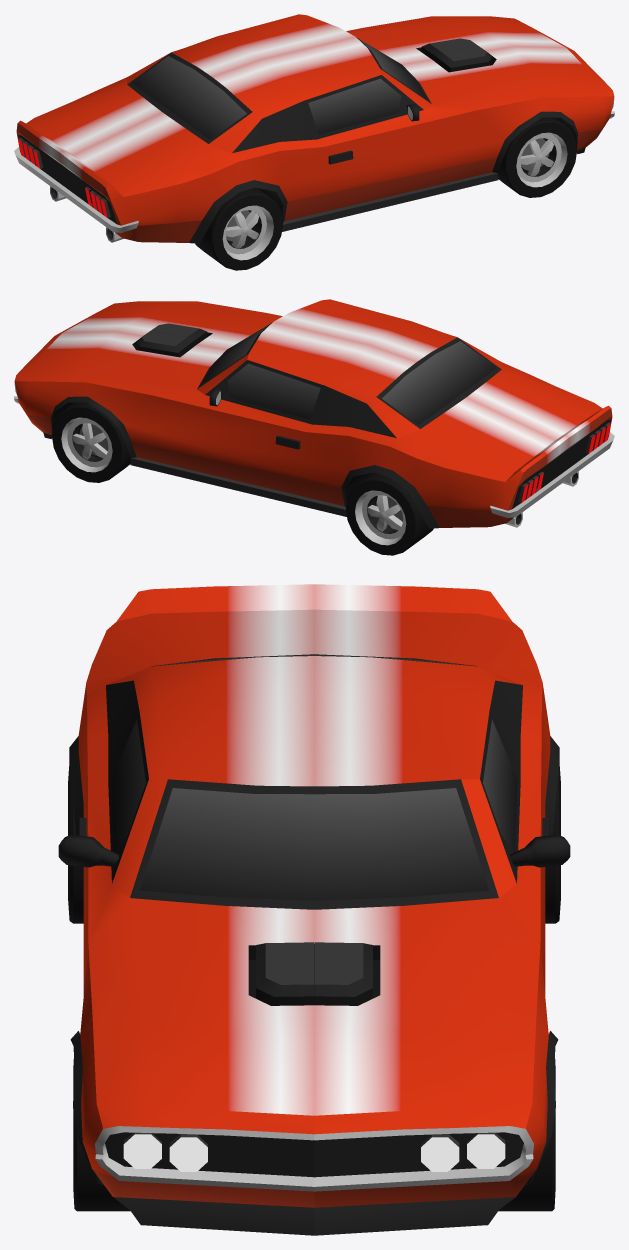
The model's file is Car_162.glb.
The picture shows the model from 3 angles, top to bottom: view 1: azimuth 30°, elevation 25°; view 2: azimuth 150°, elevation 25°; view 3: azimuth 270°, elevation 25°; orthographic projection. The views are drawn at different scales.
Visible parts, largest first — view 1: Car_162, wheel_3_Car_162_Wheel_2R, wheel_1_Car_162_Wheel_1R; view 2: Car_162, wheel_2_Car_162_Wheel_2L, wheel_0_Car_162_Wheel_1L; view 3: Car_162, wheel_1_Car_162_Wheel_1R, wheel_0_Car_162_Wheel_1L, wheel_2_Car_162_Wheel_2L, wheel_3_Car_162_Wheel_2R.
Part boxes in pixels (x1,y1,x2,y2): Car_162: [14, 14, 614, 243]; wheel_3_Car_162_Wheel_2R: [195, 187, 282, 270]; wheel_1_Car_162_Wheel_1R: [498, 117, 576, 197]; Car_162: [14, 299, 614, 528]; wheel_2_Car_162_Wheel_2L: [346, 472, 433, 555]; wheel_0_Car_162_Wheel_1L: [52, 402, 130, 482]; Car_162: [58, 584, 570, 1235]; wheel_1_Car_162_Wheel_1R: [73, 1059, 130, 1211]; wheel_0_Car_162_Wheel_1L: [498, 1059, 555, 1211]; wheel_2_Car_162_Wheel_2L: [545, 763, 560, 923]; wheel_3_Car_162_Wheel_2R: [68, 763, 83, 923].
Bounding box in the file's own units: 4.68 × 1.28 × 2.01.
3 materials, 3 textured.
